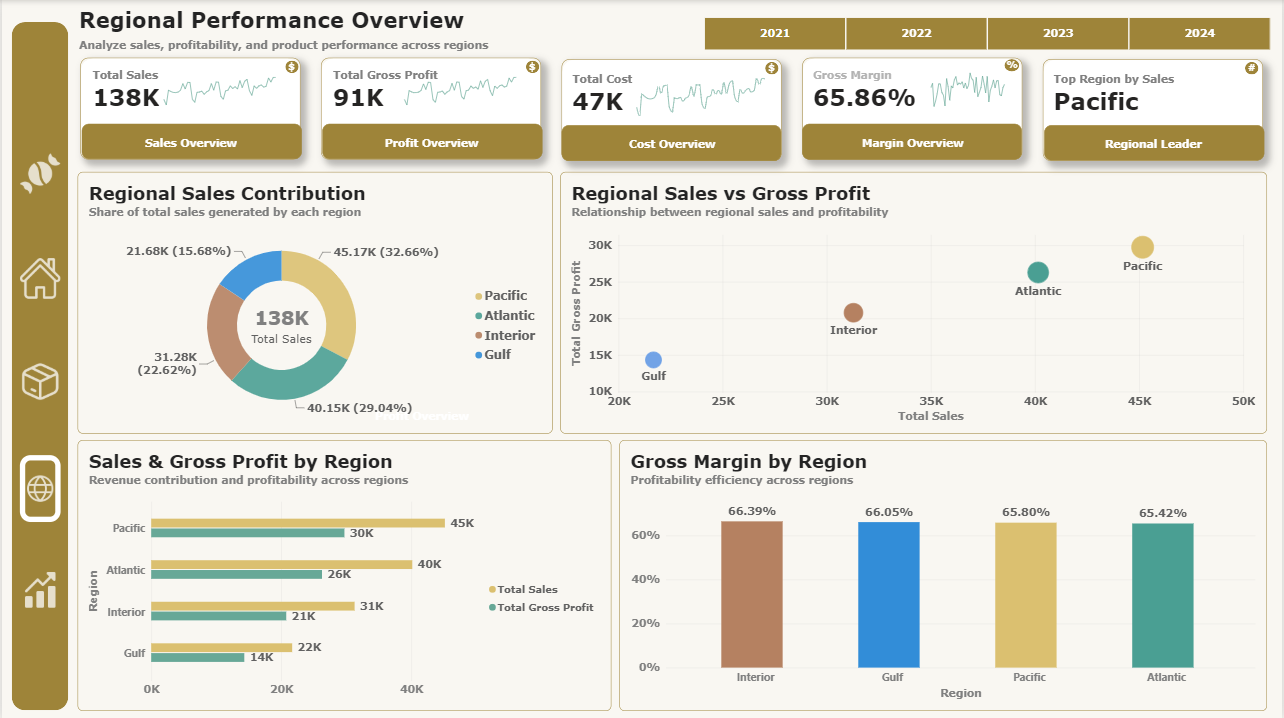

Layout of this report page (visuals, bound fields, positions):
{"tool":"powerbi","page":{"name":"Regional Analysis","canvas":[1920,1080],"ordinal":2},"visuals":[{"type":"slicer","fields":{"Values":["06_Clean_Sales.Year"]},"box":[1032.3,23.8,887.5,51.2],"z":0,"group":"g2"},{"type":"group","id":"g1","title":"Group 1","box":[14.4,33,84.6,1033.5],"z":0,"group":"g13"},{"type":"shape","box":[116.5,86.9,330.3,152.8],"z":0,"group":"g9"},{"type":"shape","box":[477.7,86.9,330.3,152.8],"z":0,"group":"g12"},{"type":"shape","box":[1200.2,86.9,330.3,152.8],"z":0,"group":"g10"},{"type":"shape","box":[839.5,88.9,330.3,152.8],"z":0,"group":"g4"},{"type":"shape","box":[1561.9,89,330.3,152.8],"z":0,"group":"g5"},{"type":"textbox","box":[853.7,207.3,302.7,25.7],"z":0,"group":"g15"},{"type":"image","box":[26.2,527.3,60.9,88.4],"z":0,"group":"g14"},{"type":"group","id":"g2","title":"Group 13","box":[115,10,1803.1,72.5],"z":1000,"group":"g13"},{"type":"textbox","box":[115.2,10,659.6,47.4],"z":1000,"group":"g2"},{"type":"group","id":"g3","title":"Group 11","box":[1200.2,86.9,331.2,153.2],"z":1000,"group":"g8"},{"type":"cardVisual","fields":{"Data":["06_Clean_Sales.Total Cost"]},"box":[839,103.7,293,77],"z":1000,"group":"g15"},{"type":"shape","box":[1200.2,186.3,329.2,53.8],"z":1000,"group":"g10"},{"type":"shape","box":[117.5,186.8,329.9,52.8],"z":1000,"group":"g9"},{"type":"shape","box":[478.7,186.8,329.9,52.8],"z":1000,"group":"g12"},{"type":"shape","box":[839.5,188.3,329.2,53.8],"z":1000,"group":"g4"},{"type":"shape","box":[1562.9,188.9,329.9,52.8],"z":1000,"group":"g5"},{"type":"image","box":[26.2,373.1,60.9,88.4],"z":1000,"group":"g14"},{"type":"textbox","box":[115,58,917.3,24.2],"z":2000,"group":"g2"},{"type":"group","id":"g4","title":"Group 2","box":[839.5,88.9,330.3,153.2],"z":2000,"group":"g11"},{"type":"group","id":"g5","title":"Group 6","box":[1561.5,89,331.2,153.2],"z":2000,"group":"g8"},{"type":"group","id":"g6","title":"Group 10","box":[1144.9,92.9,20.8,19.2],"z":2000,"group":"g15"},{"type":"textbox","box":[130.8,205.3,302.7,25.7],"z":2000,"group":"g9"},{"type":"textbox","box":[492,205.3,302.7,25.7],"z":2000,"group":"g12"},{"type":"image","box":[26.2,211.6,60.9,95.8],"z":2000,"group":"g14"},{"type":"group","id":"g7","title":"Group 14","box":[465.9,596.4,329.9,52.8],"z":2000,"group":"g13"},{"type":"shape","box":[14.4,33,85.1,1032.7],"z":2500,"group":"g1"},{"type":"lineChart","fields":{"Y":["06_Clean_Sales.Total Cost"],"Category":["06_Clean_Sales.Month Year.Variation.Date Hierarchy.Year","06_Clean_Sales.Month Year.Variation.Date Hierarchy.Quarter","06_Clean_Sales.Month Year.Variation.Date Hierarchy.Month","06_Clean_Sales.Month Year.Variation.Date Hierarchy.Day"]},"box":[925.1,95.4,244.3,95.2],"z":3000,"group":"g15"},{"type":"cardVisual","fields":{"Data":["06_Clean_Sales.Total Sales"]},"box":[117.7,96.1,245,81],"z":3000,"group":"g9"},{"type":"cardVisual","fields":{"Data":["06_Clean_Sales.Total Gross Profit"]},"box":[478.9,96.1,245,81],"z":3000,"group":"g12"},{"type":"textbox","box":[1575.9,207.2,302.7,25.7],"z":3000,"group":"g5"},{"type":"textbox","box":[479.1,614.9,302.7,25.7],"z":3000,"group":"g7"},{"type":"clusteredBarChart","title":"Sales & Gross Profit by Region","fields":{"Category":["06_Clean_Sales.Region"],"Y":["06_Clean_Sales.Total Sales","06_Clean_Sales.Total Gross Profit"]},"box":[113.4,660.1,800.4,406.4],"z":3000,"group":"g13"},{"type":"image","box":[26.2,681.4,60.9,100.7],"z":3000,"group":"g14"},{"type":"group","id":"g8","title":"Group 5","box":[116.5,86.9,1776.2,155.3],"z":4000,"group":"g13"},{"type":"group","id":"g9","title":"Group 4","box":[116.5,86.9,331.2,153.2],"z":4000,"group":"g8"},{"type":"group","id":"g10","title":"Group 2","box":[1200.2,86.9,330.3,153.2],"z":4000,"group":"g3"},{"type":"shape","box":[423.1,90.4,20.2,19],"z":4000,"group":"g9"},{"type":"shape","box":[784.3,90.4,20.2,19],"z":4000,"group":"g12"},{"type":"image","box":[26.2,847.9,60.9,73.7],"z":4000,"group":"g14"},{"type":"textbox","box":[427.8,90.4,11.1,17.5],"z":5000,"group":"g9"},{"type":"textbox","box":[789,90.4,11.1,17.5],"z":5000,"group":"g12"},{"type":"cardVisual","fields":{"Data":["06_Clean_Sales.Top Region"]},"box":[1561.5,103.1,231.9,76.6],"z":5000,"group":"g5"},{"type":"clusteredColumnChart","title":"Gross Margin by Region","fields":{"Category":["06_Clean_Sales.Region"],"Y":["06_Clean_Sales.Gross Margin"]},"box":[926.2,660.1,971.6,406.4],"z":5000,"group":"g13"},{"type":"stackedAreaChart","fields":{"Y":["06_Clean_Sales.Total Sales"],"Category":["06_Clean_Sales.Month Year.Variation.Date Hierarchy.Year","06_Clean_Sales.Month Year.Variation.Date Hierarchy.Month"]},"box":[211.9,87.8,227.7,91.5],"z":6000,"group":"g9"},{"type":"stackedAreaChart","fields":{"Category":["06_Clean_Sales.Month Year.Variation.Date Hierarchy.Year","06_Clean_Sales.Month Year.Variation.Date Hierarchy.Quarter","06_Clean_Sales.Month Year.Variation.Date Hierarchy.Month","06_Clean_Sales.Month Year.Variation.Date Hierarchy.Day"],"Y":["06_Clean_Sales.Total Gross Profit"]},"box":[573.1,87.8,227.7,91.5],"z":6000,"group":"g12"},{"type":"group","id":"g11","title":"Group 12","box":[839,88.9,331.2,153.2],"z":6000,"group":"g8"},{"type":"donutChart","title":"Regional Sales Contribution","fields":{"Category":["06_Clean_Sales.Region"],"Y":["06_Clean_Sales.Total Sales"]},"box":[114,257.5,712.5,392.5],"z":6000,"group":"g13"},{"type":"group","id":"g12","title":"Group 4","box":[477.7,86.9,331.2,153.2],"z":7000,"group":"g8"},{"type":"scatterChart","title":"Regional Sales vs Gross Profit","fields":{"X":["06_Clean_Sales.Total Sales"],"Y":["06_Clean_Sales.Total Gross Profit"],"Size":["06_Clean_Sales.Total Units Sold"],"Category":["06_Clean_Sales.Region"]},"box":[836.5,257.5,1060,392.5],"z":7000,"group":"g13"},{"type":"group","id":"g13","title":"Group 15","box":[14.4,10,1903.7,1056.5],"z":7001},{"type":"group","id":"g14","title":"Group 3","box":[26.2,211.6,60.9,710],"z":7009,"group":"g1"},{"type":"shape","box":[1503.7,90,22.4,18.6],"z":8000,"group":"g17"},{"type":"shape","box":[1864.1,93.7,20.2,19],"z":8000,"group":"g16"},{"type":"textbox","box":[1214.5,205.4,302.7,25.7],"z":8000,"group":"g3"},{"type":"textbox","box":[1500.8,90.9,28.5,17.5],"z":10000,"group":"g17"},{"type":"group","id":"g15","title":"Group 8","box":[839,92.9,330.4,140.2],"z":10000,"group":"g11"},{"type":"textbox","box":[1868.9,93.7,11.1,17.5],"z":10000,"group":"g16"},{"type":"cardVisual","fields":{"Data":["06_Clean_Sales.Avg Gross Margin"]},"box":[1200.6,101.5,190.5,69.3],"z":10000,"group":"g3"},{"type":"lineChart","fields":{"Category":["06_Clean_Sales.Month Year.Variation.Date Hierarchy.Year","06_Clean_Sales.Month Year.Variation.Date Hierarchy.Quarter","06_Clean_Sales.Month Year.Variation.Date Hierarchy.Month","06_Clean_Sales.Month Year.Variation.Date Hierarchy.Day"],"Y":["06_Clean_Sales.Avg Gross Margin"]},"box":[1367.7,86.9,162.3,90],"z":13000,"group":"g3"},{"type":"group","id":"g16","title":"Group 9","box":[1864.1,93.7,20,19.2],"z":14000,"group":"g5"},{"type":"shape","box":[1144.9,92.9,20.2,19],"z":16000,"group":"g6"},{"type":"group","id":"g17","title":"Group 7","box":[1500.8,90,28.5,19.2],"z":17000,"group":"g3"},{"type":"textbox","box":[1149.7,92.9,11.1,17.5],"z":17000,"group":"g6"}]}

Visuals, with their boxes in screenshot pixels (x1, y1, x2, y2), scaled from the page's 1920x1080 canvas onto the 1284x718 screenshot:
slicer - 06_Clean_Sales.Year: rect(690, 16, 1283, 50)
"Group 1" group: rect(10, 22, 66, 709)
shape: rect(78, 58, 299, 159)
shape: rect(319, 58, 540, 159)
shape: rect(803, 58, 1024, 159)
shape: rect(561, 59, 782, 161)
shape: rect(1045, 59, 1265, 161)
textbox: rect(571, 138, 773, 155)
image: rect(18, 351, 58, 409)
"Group 13" group: rect(77, 7, 1283, 55)
textbox: rect(77, 7, 518, 38)
"Group 11" group: rect(803, 58, 1024, 160)
cardVisual - 06_Clean_Sales.Total Cost: rect(561, 69, 757, 120)
shape: rect(803, 124, 1023, 160)
shape: rect(79, 124, 299, 159)
shape: rect(320, 124, 541, 159)
shape: rect(561, 125, 782, 161)
shape: rect(1045, 126, 1266, 161)
image: rect(18, 248, 58, 307)
textbox: rect(77, 39, 690, 55)
"Group 2" group: rect(561, 59, 782, 161)
"Group 6" group: rect(1044, 59, 1266, 161)
"Group 10" group: rect(766, 62, 780, 75)
textbox: rect(87, 136, 290, 154)
textbox: rect(329, 136, 531, 154)
image: rect(18, 141, 58, 204)
"Group 14" group: rect(312, 396, 532, 432)
shape: rect(10, 22, 67, 708)
lineChart - 06_Clean_Sales.Total Cost x 06_Clean_Sales.Month Year.Variation.Date Hierarchy.Year: rect(619, 63, 782, 127)
cardVisual - 06_Clean_Sales.Total Sales: rect(79, 64, 243, 118)
cardVisual - 06_Clean_Sales.Total Gross Profit: rect(320, 64, 484, 118)
textbox: rect(1054, 138, 1256, 155)
textbox: rect(320, 409, 523, 426)
"Sales & Gross Profit by Region" clusteredBarChart: rect(76, 439, 611, 709)
image: rect(18, 453, 58, 520)
"Group 5" group: rect(78, 58, 1266, 161)
"Group 4" group: rect(78, 58, 299, 160)
"Group 2" group: rect(803, 58, 1024, 160)
shape: rect(283, 60, 296, 73)
shape: rect(525, 60, 538, 73)
image: rect(18, 564, 58, 613)
textbox: rect(286, 60, 294, 72)
textbox: rect(528, 60, 535, 72)
cardVisual - 06_Clean_Sales.Top Region: rect(1044, 69, 1199, 119)
"Gross Margin by Region" clusteredColumnChart: rect(619, 439, 1269, 709)
stackedAreaChart - 06_Clean_Sales.Total Sales x 06_Clean_Sales.Month Year.Variation.Date Hierarchy.Year: rect(142, 58, 294, 119)
stackedAreaChart - 06_Clean_Sales.Month Year.Variation.Date Hierarchy.Year x 06_Clean_Sales.Month Year.Variation.Date Hierarchy.Quarter: rect(383, 58, 536, 119)
"Group 12" group: rect(561, 59, 783, 161)
"Regional Sales Contribution" donutChart: rect(76, 171, 553, 432)
"Group 4" group: rect(319, 58, 541, 160)
"Regional Sales vs Gross Profit" scatterChart: rect(559, 171, 1268, 432)
"Group 15" group: rect(10, 7, 1283, 709)
"Group 3" group: rect(18, 141, 58, 613)
shape: rect(1006, 60, 1021, 72)
shape: rect(1247, 62, 1260, 75)
textbox: rect(812, 137, 1015, 154)
textbox: rect(1004, 60, 1023, 72)
"Group 8" group: rect(561, 62, 782, 155)
textbox: rect(1250, 62, 1257, 74)
cardVisual - 06_Clean_Sales.Avg Gross Margin: rect(803, 67, 930, 114)
lineChart - 06_Clean_Sales.Month Year.Variation.Date Hierarchy.Year x 06_Clean_Sales.Month Year.Variation.Date Hierarchy.Quarter: rect(915, 58, 1023, 118)
"Group 9" group: rect(1247, 62, 1260, 75)
shape: rect(766, 62, 779, 74)
"Group 7" group: rect(1004, 60, 1023, 73)
textbox: rect(769, 62, 776, 73)
